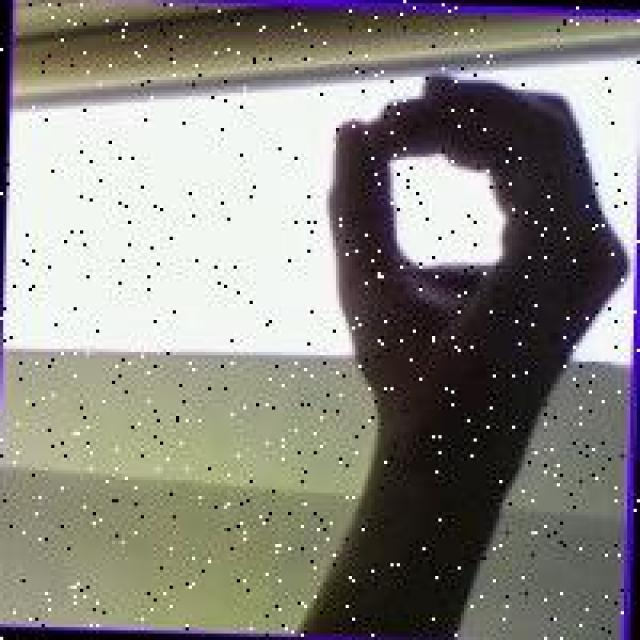O: (296, 66, 635, 430)
